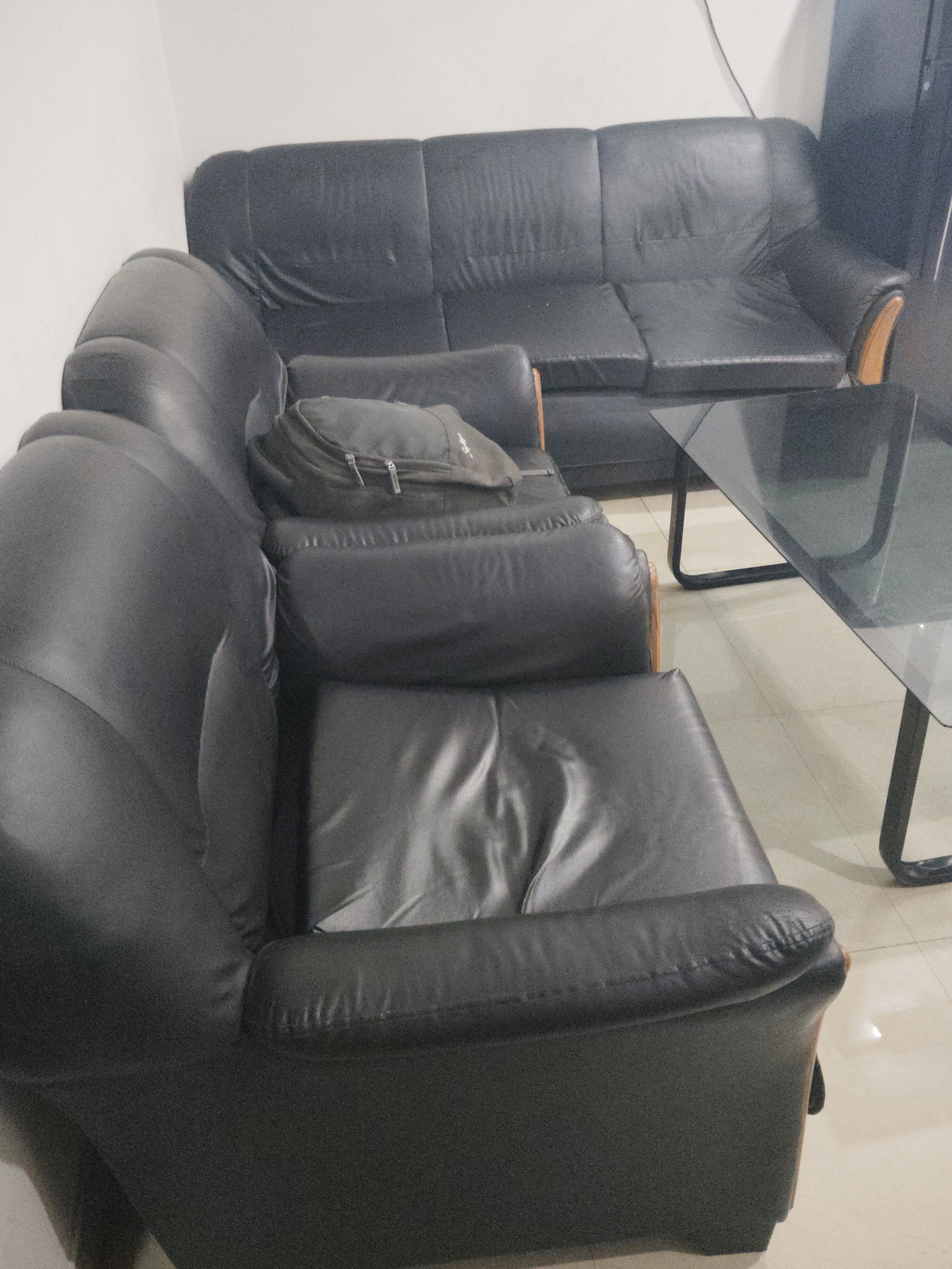sofa: (0, 412, 849, 1269), (186, 118, 915, 491), (60, 247, 607, 543)
table: (644, 381, 952, 884)
